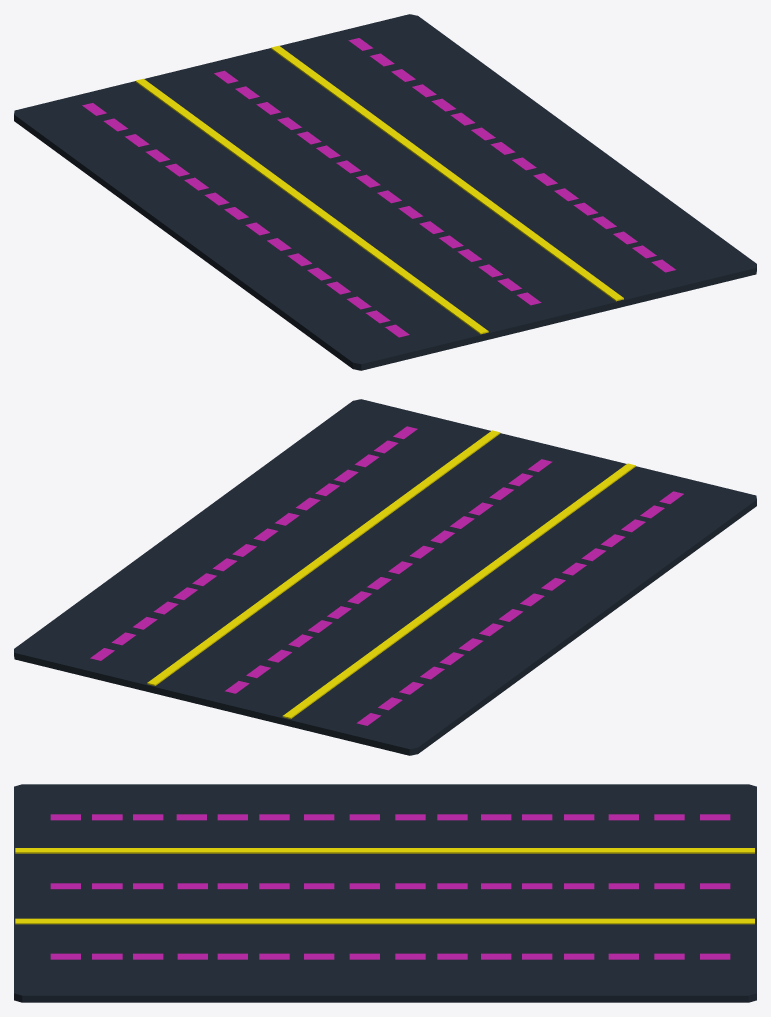
File: CityStreet.glb
3 renders of one model, top to bottom at view 1: azimuth 30°, elevation 25°; view 2: azimuth 150°, elevation 25°; view 3: azimuth 270°, elevation 25°, orthographic. The views are drawn at different scales.
Parts seen in each view (by area): view 1: BlackStreet; view 2: BlackStreet; view 3: BlackStreet.
Boxes of the visible parts, left/top/right/bottom form: BlackStreet: left=14, top=14, right=756, bottom=370; BlackStreet: left=14, top=399, right=756, bottom=755; BlackStreet: left=14, top=784, right=756, bottom=1002.
Bounding box in the file's own units: 19.64 × 0.3712 × 29.17.
